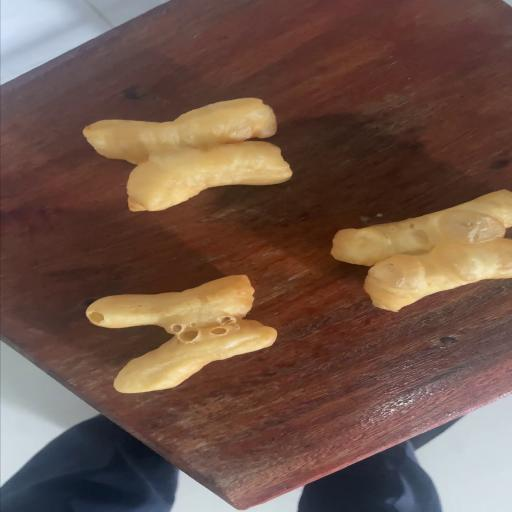street_golden_defect: (88, 276, 277, 392), (332, 190, 510, 311)
street_golden_good: (84, 99, 290, 210)
